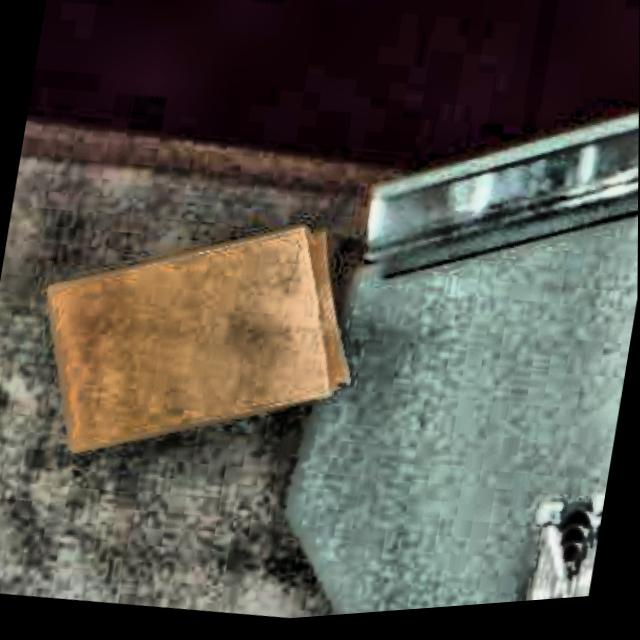Paper-bag: (8, 177, 377, 509)
